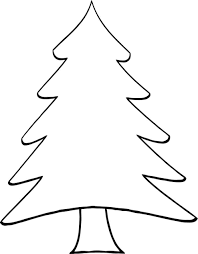tree: (1, 1, 195, 245)
